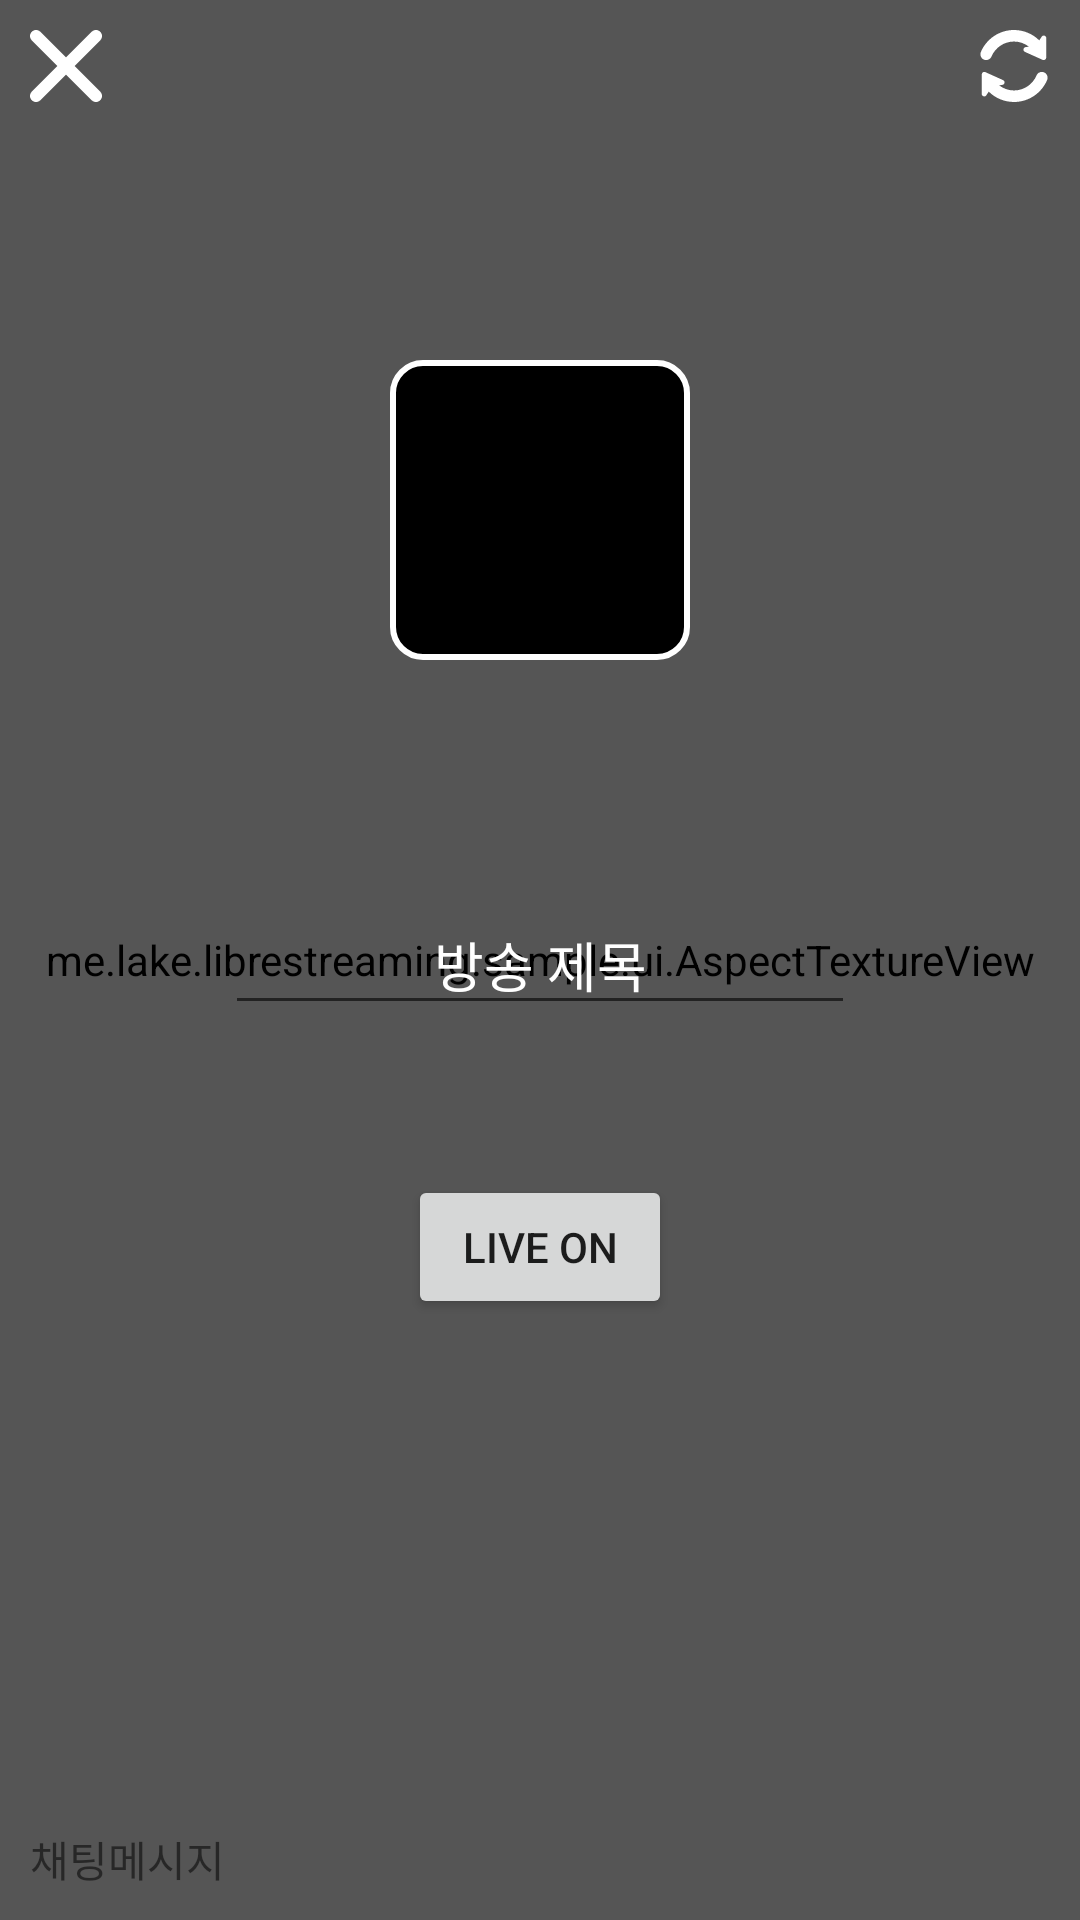

Screen size 1080px x 1920px. Icon name, then its box in pixels as [left=x1, top=y1, right=x2, bottom=y2]:
refresh: [left=980, top=30, right=1048, bottom=102]
